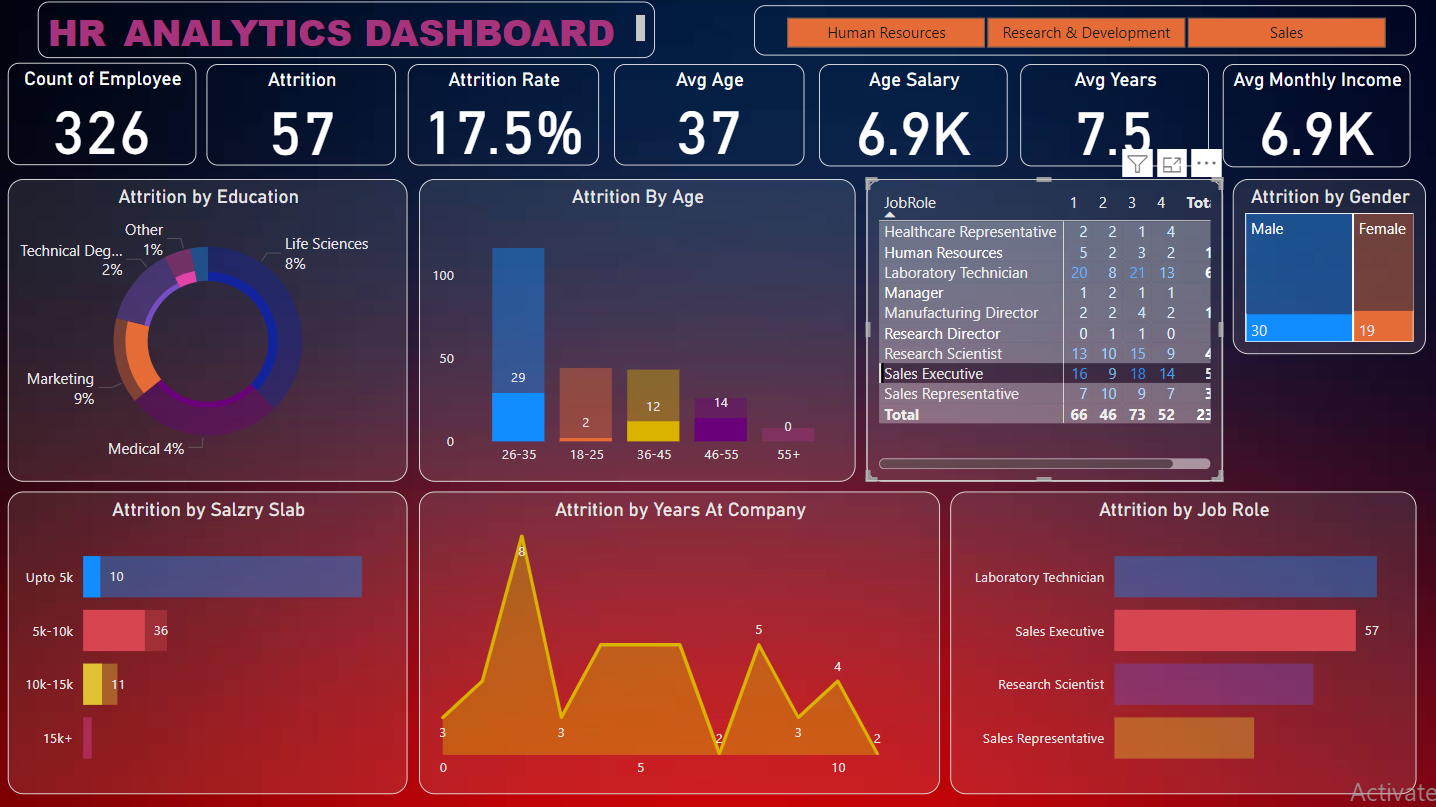

What the dashboard file says about the page in this screenshot:
{"tool":"powerbi","page":{"name":"Page 1","canvas":[1280,720],"ordinal":0},"visuals":[{"type":"card","title":"Count of Employee","fields":{"Values":["Count(HR_Analytics.EmpID)"]},"box":[7.8,56.8,168.1,91.3],"z":0},{"type":"card","title":"Attrition","fields":{"Values":["Sum(HR_Analytics.AttritionCount)"]},"box":[185.2,57.6,168.8,90.6],"z":1000},{"type":"card","title":"Attrition Rate","fields":{"Values":["HR_Analytics.AttritionRate"]},"box":[364,57.9,170.3,90.2],"z":2000},{"type":"card","title":"Avg Age","fields":{"Values":["Avg(HR_Analytics.Age)"]},"box":[547.7,57.9,169.2,90.2],"z":3000},{"type":"card","title":"Age Salary","fields":{"Values":["Avg(HR_Analytics.MonthlyIncome)"]},"box":[730.2,57.9,168.1,91.3],"z":4000},{"type":"card","title":"Avg Years","fields":{"Values":["Avg(HR_Analytics.YearsAtCompany)"]},"box":[909.5,57.9,168.1,91.3],"z":5000},{"type":"donutChart","title":"Attrition by Education","fields":{"Category":["HR_Analytics.EducationField"],"Y":["Sum(HR_Analytics.AttritionCount)"]},"box":[7.8,160.3,356.2,269.4],"z":6000},{"type":"columnChart","title":"Attrition By Age","fields":{"Category":["HR_Analytics.AgeGroup"],"Y":["Sum(HR_Analytics.AttritionCount)"]},"box":[374,160.3,388.5,269.4],"z":7000},{"type":"pivotTable","fields":{"Rows":["HR_Analytics.JobRole"],"Columns":["HR_Analytics.JobSatisfaction"],"Values":["Sum(HR_Analytics.AttritionCount)"]},"box":[772.5,160.3,317.3,269.4],"z":8000},{"type":"barChart","title":"Attrition by Salzry Slab","fields":{"Category":["HR_Analytics.SalarySlab"],"Y":["Sum(HR_Analytics.AttritionCount)"]},"box":[7.8,438.6,356.2,269.4],"z":9000},{"type":"barChart","title":"Attrition by Job Role","fields":{"Category":["HR_Analytics.JobRole"],"Y":["Sum(HR_Analytics.AttritionCount)"]},"box":[847.1,438.6,415.2,269.4],"z":10000},{"type":"areaChart","title":"Attrition by Years At Company","fields":{"Category":["HR_Analytics.YearsAtCompany"],"Y":["Sum(HR_Analytics.AttritionCount)"]},"box":[374,438.6,464.2,269.4],"z":11000},{"type":"treemap","title":"Attrition by Gender","fields":{"Group":["HR_Analytics.Gender"],"Values":["Sum(HR_Analytics.AttritionCount)"]},"box":[1098.8,160.5,172.1,155.8],"z":12000},{"type":"slicer","fields":{"Values":["HR_Analytics.Department"]},"box":[672.4,5.6,590,44.5],"z":13000},{"type":"textbox","box":[34.9,2.3,551.2,55.8],"z":14000},{"type":"card","title":"Avg Monthly Income","fields":{"Values":["Avg(HR_Analytics.MonthlyIncome)"]},"box":[1089.5,58.1,167.4,91.9],"z":15000}]}

Visuals, with their boxes in screenshot pixels (x1, y1, x2, y2), scaled from the page's 1280x720 canvas onto the 1436x807 screenshot:
"Count of Employee" card: bbox=(9, 64, 197, 166)
"Attrition" card: bbox=(208, 65, 397, 166)
"Attrition Rate" card: bbox=(408, 65, 599, 166)
"Avg Age" card: bbox=(614, 65, 804, 166)
"Age Salary" card: bbox=(819, 65, 1008, 167)
"Avg Years" card: bbox=(1020, 65, 1209, 167)
"Attrition by Education" donutChart: bbox=(9, 180, 408, 482)
"Attrition By Age" columnChart: bbox=(420, 180, 855, 482)
pivotTable - HR_Analytics.JobRole x HR_Analytics.JobSatisfaction: bbox=(867, 180, 1223, 482)
"Attrition by Salzry Slab" barChart: bbox=(9, 492, 408, 794)
"Attrition by Job Role" barChart: bbox=(950, 492, 1416, 794)
"Attrition by Years At Company" areaChart: bbox=(420, 492, 940, 794)
"Attrition by Gender" treemap: bbox=(1233, 180, 1426, 355)
slicer - HR_Analytics.Department: bbox=(754, 6, 1416, 56)
textbox: bbox=(39, 3, 658, 65)
"Avg Monthly Income" card: bbox=(1222, 65, 1410, 168)
